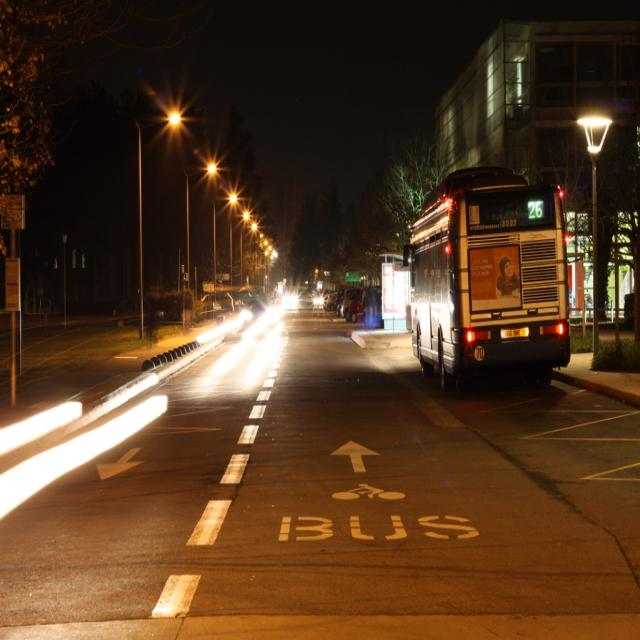Bus: (409, 160, 571, 427)
car: (260, 256, 312, 348), (321, 288, 383, 331)
